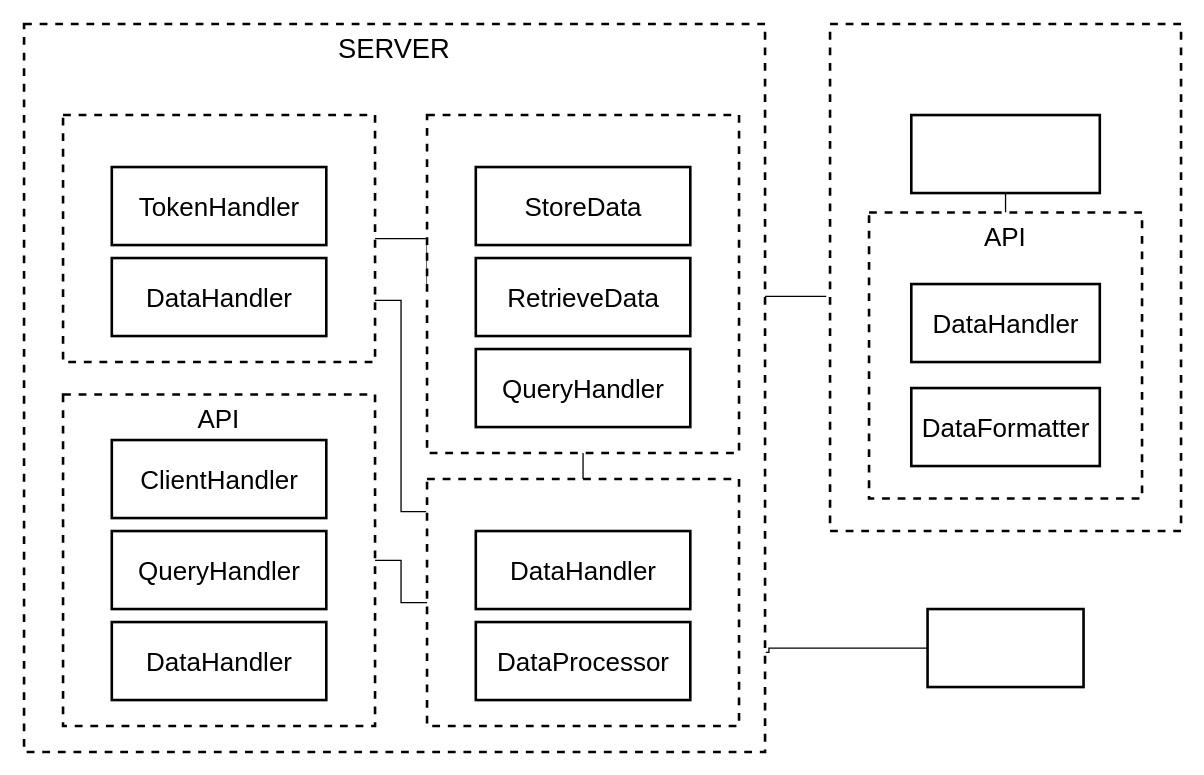
Image size: 1204x775. Some labels were removed from this diagram. Each missing label, with the box of its shape:
CLIENT: (828, 22, 1182, 532)
Database: (425, 113, 740, 454)
GUI: (909, 113, 1100, 194)
Processing: (425, 477, 740, 727)
Spotify: (61, 113, 376, 363)
Spotify API: (926, 607, 1084, 688)
